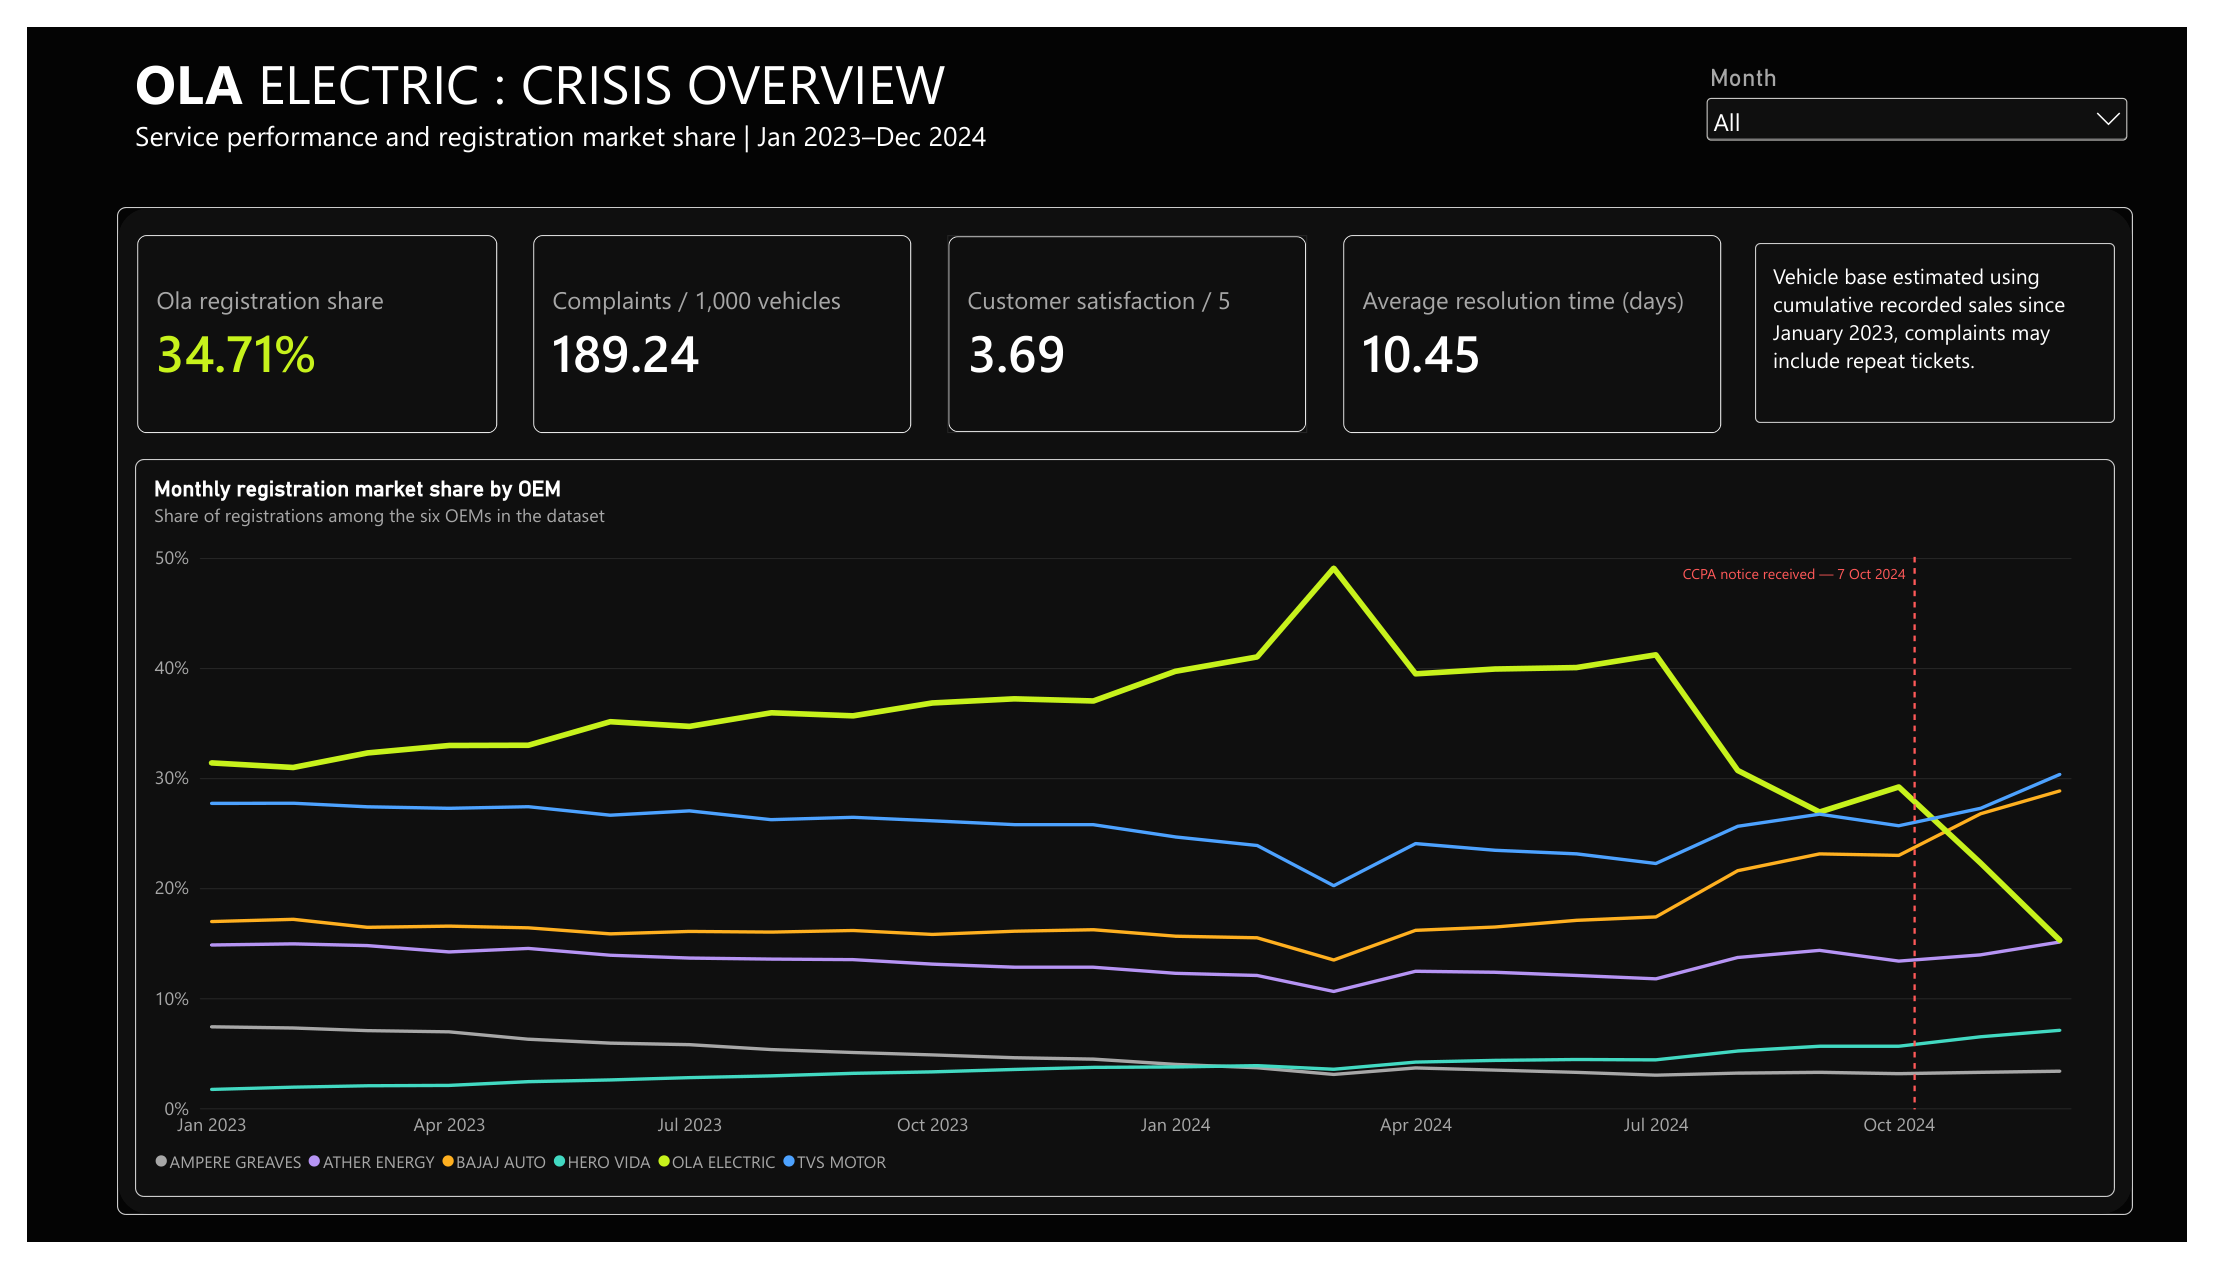

Layout of this report page (visuals, bound fields, positions):
{"tool":"powerbi","page":{"name":"Crisis Overview","canvas":[1920,1080],"ordinal":0},"visuals":[{"type":"shape","box":[80,160,1792,896],"z":1000},{"type":"slicer","fields":{"Values":["ola_star dim_date.Month Year"]},"box":[1488,32,384,96],"z":2000},{"type":"cardVisual","fields":{"Data":["ola_star fact_complaints.Average CSAT"]},"box":[818,185.2,320,176],"z":3000},{"type":"cardVisual","fields":{"Data":["ola_star fact_complaints.Average TAT Days"]},"box":[1170,185.2,336,176],"z":4000},{"type":"cardVisual","fields":{"Data":["ola_star fact_sales.Complaints per 1000 Vehicles"]},"box":[450,185.2,336,176],"z":5000},{"type":"cardVisual","fields":{"Data":["ola_star fact_vahan_registrations.Ola Market Share"]},"box":[98,185.2,320,176],"z":6000},{"type":"lineChart","title":"Monthly registration market share by OEM","fields":{"Category":["ola_star dim_date.Month Start.Variation.Date Hierarchy.Year","ola_star dim_date.Month Start.Variation.Date Hierarchy.Month"],"Series":["ola_star dim_oem.oem_name"],"Y":["ola_star fact_vahan_registrations.Market Share"]},"box":[96,384,1760,656],"z":7000},{"type":"shape","box":[1536,192,320,160],"z":8000},{"type":"textbox","box":[1552,208,304,144],"z":9000},{"type":"textbox","box":[96,16,816,128],"z":10000}]}

Visuals, with their boxes in screenshot pixels (x1, y1, x2, y2), scaled from the page's 1920x1080 canvas onto the 2214x1269 screenshot:
shape: x1=92, y1=188, x2=2159, y2=1241
slicer - ola_star dim_date.Month Year: x1=1716, y1=38, x2=2159, y2=150
cardVisual - ola_star fact_complaints.Average CSAT: x1=943, y1=218, x2=1312, y2=424
cardVisual - ola_star fact_complaints.Average TAT Days: x1=1349, y1=218, x2=1737, y2=424
cardVisual - ola_star fact_sales.Complaints per 1000 Vehicles: x1=519, y1=218, x2=906, y2=424
cardVisual - ola_star fact_vahan_registrations.Ola Market Share: x1=113, y1=218, x2=482, y2=424
"Monthly registration market share by OEM" lineChart: x1=111, y1=451, x2=2140, y2=1222
shape: x1=1771, y1=226, x2=2140, y2=414
textbox: x1=1790, y1=244, x2=2140, y2=414
textbox: x1=111, y1=19, x2=1052, y2=169
